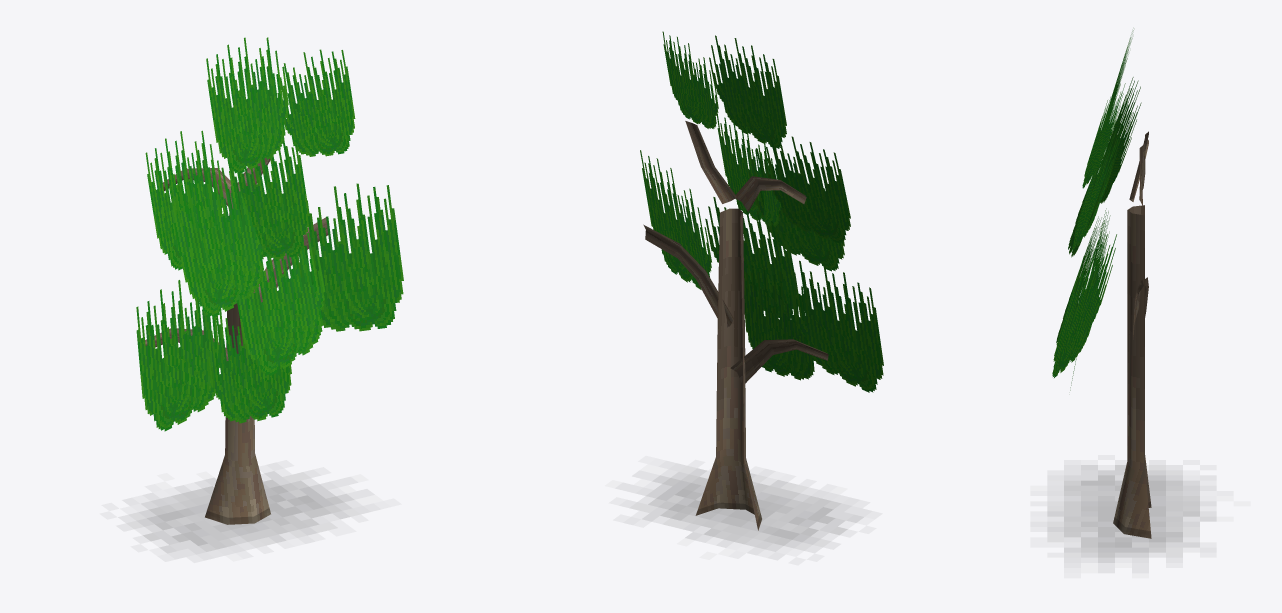
Rendered from Cool Tree.obj.
The picture shows the model from 3 angles, left to right: view 1: azimuth 30°, elevation 25°; view 2: azimuth 150°, elevation 25°; view 3: azimuth 270°, elevation 25°; orthographic projection. The views are drawn at different scales.
Visible parts, largest first — view 1: polygon1.055, polygon0.055, polygon2.034; view 2: polygon1.055, polygon2.034, polygon0.055; view 3: polygon1.055, polygon0.055, polygon2.034.
Boxes of the visible parts, left/top/right/bottom form: polygon1.055: left=136, top=37, right=403, bottom=431; polygon0.055: left=138, top=479, right=353, bottom=551; polygon2.034: left=145, top=118, right=328, bottom=524; polygon1.055: left=640, top=31, right=883, bottom=392; polygon2.034: left=643, top=121, right=828, bottom=530; polygon0.055: left=647, top=474, right=846, bottom=548; polygon1.055: left=1052, top=30, right=1141, bottom=390; polygon0.055: left=1048, top=465, right=1199, bottom=562; polygon2.034: left=1113, top=131, right=1151, bottom=538.
Bounding box in the file's own units: 8.27 × 11.76 × 5.76.
3 materials, 3 textured.
